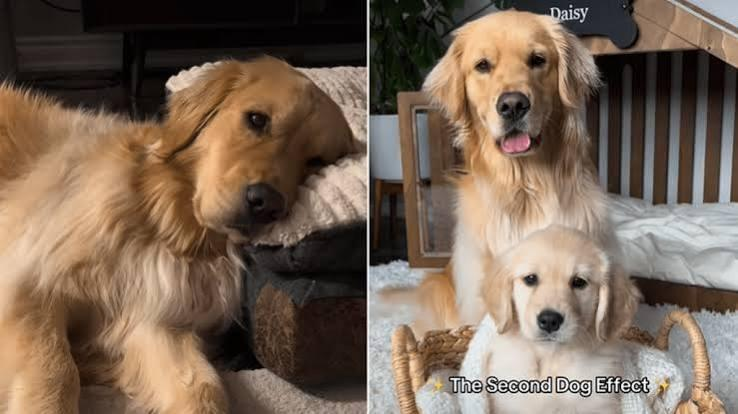adult_dog: (0, 51, 365, 414), (372, 10, 642, 342)
puppy-dog: (477, 227, 644, 405)
